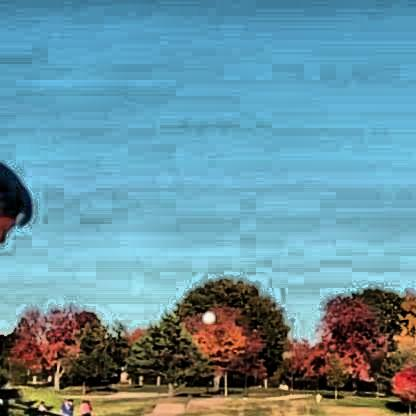golfball: (198, 306, 215, 321)
